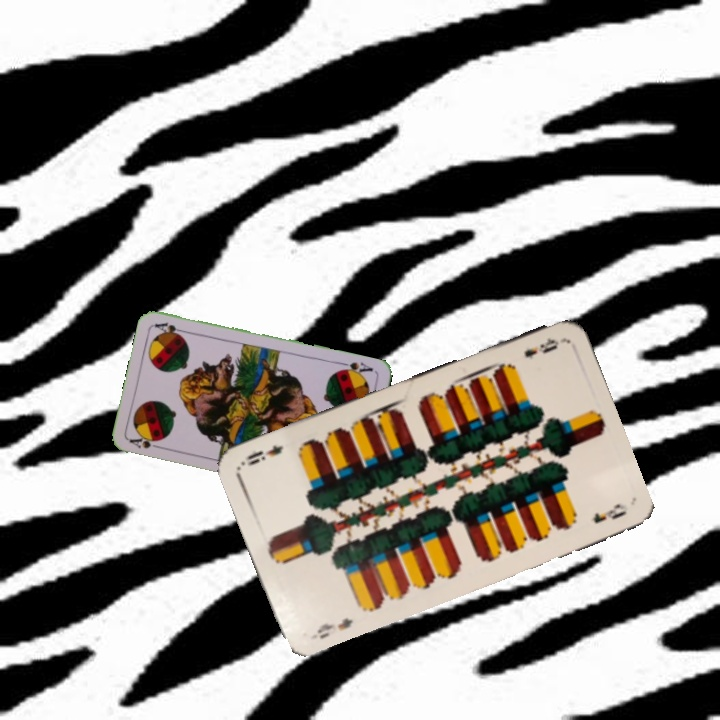E9: (312, 614, 356, 642), (520, 333, 562, 361)
SA: (335, 358, 375, 379), (125, 431, 166, 451)
